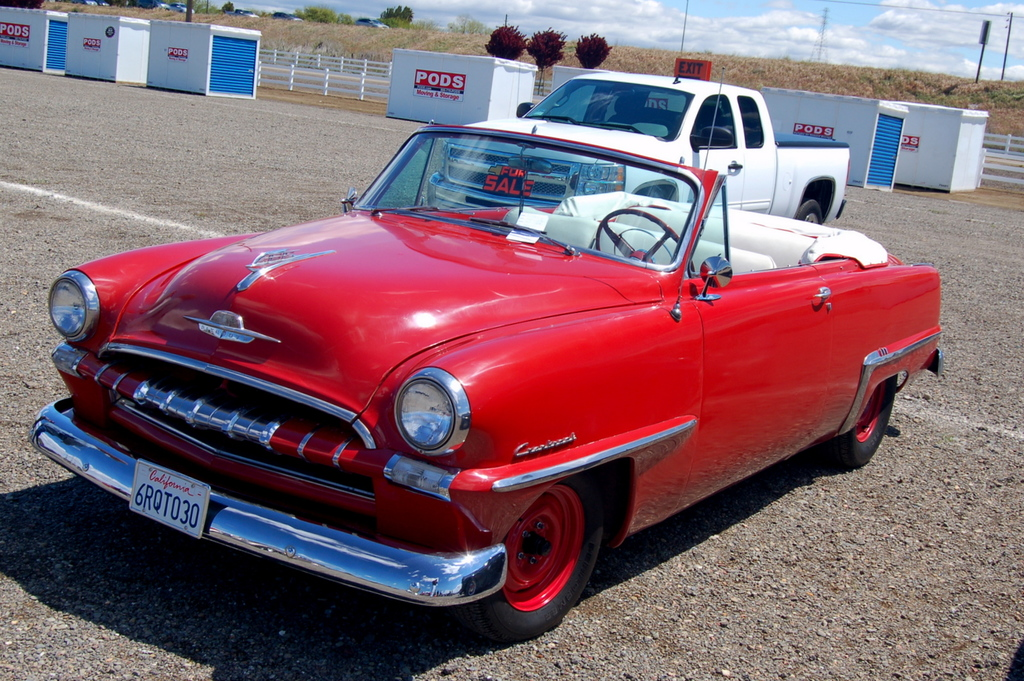Car: (19, 90, 952, 636), (426, 0, 850, 224), (355, 17, 388, 27), (224, 7, 259, 16), (268, 10, 302, 19), (135, 0, 160, 9), (170, 2, 194, 10), (72, 0, 96, 5), (160, 2, 168, 12), (94, 0, 108, 5)
